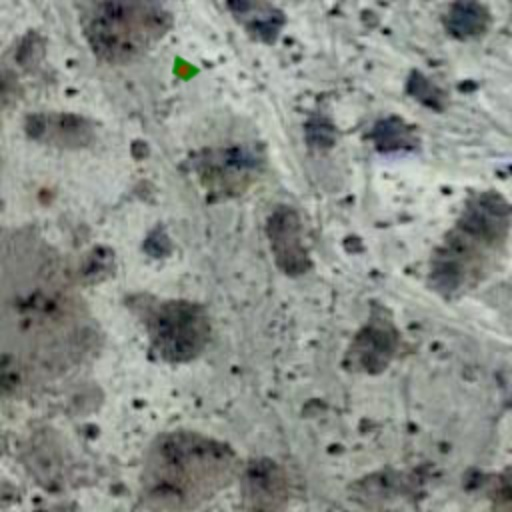trapezoid: (162, 48, 206, 92)
